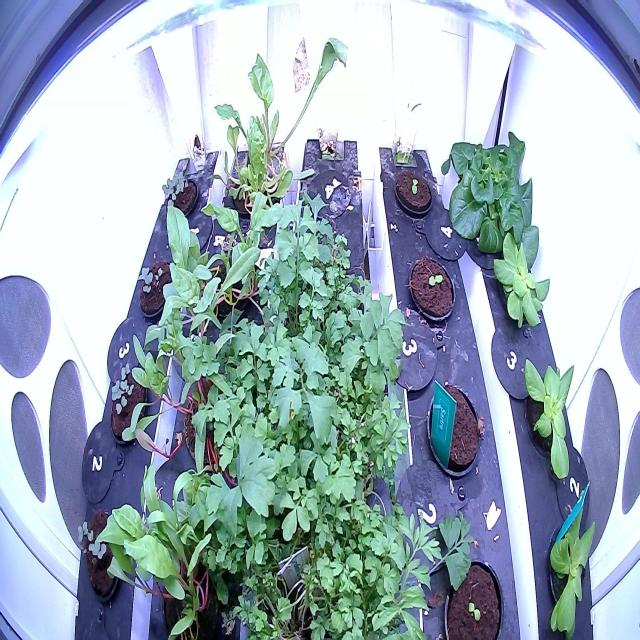empty_pod: (302, 164, 353, 226)
germination: (436, 549, 509, 639), (73, 507, 127, 605), (403, 250, 459, 328), (107, 358, 151, 449), (158, 159, 202, 228), (135, 252, 178, 322), (390, 167, 436, 222)
pod: (424, 381, 486, 482)
young: (542, 498, 604, 639), (520, 348, 578, 487), (487, 224, 554, 338)
